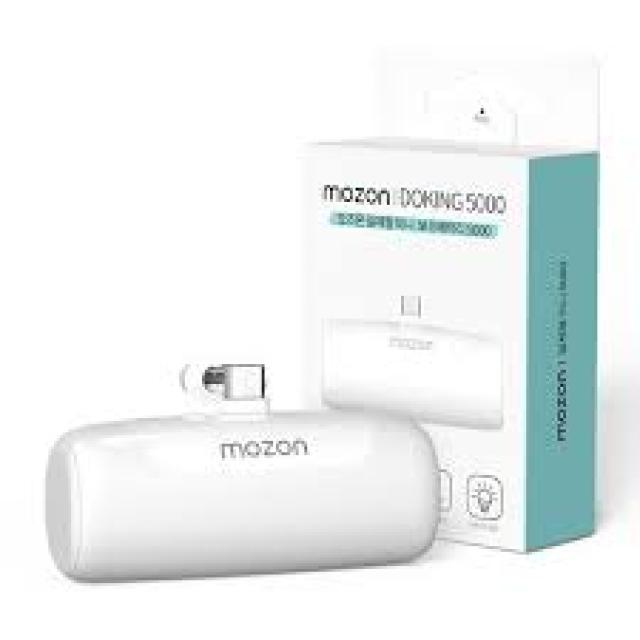power_bank: (44, 353, 446, 584), (322, 290, 512, 436)
